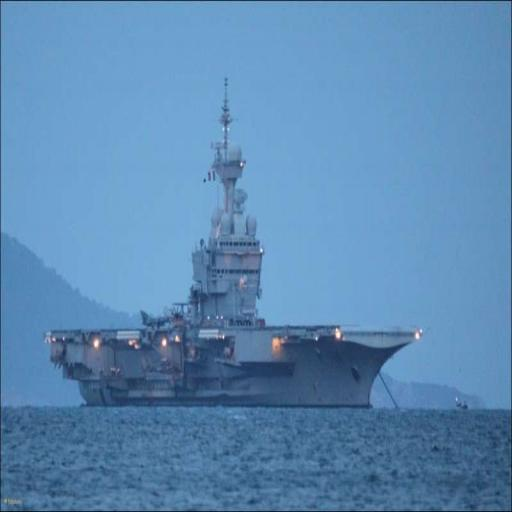Portanaves: (44, 70, 426, 415)
